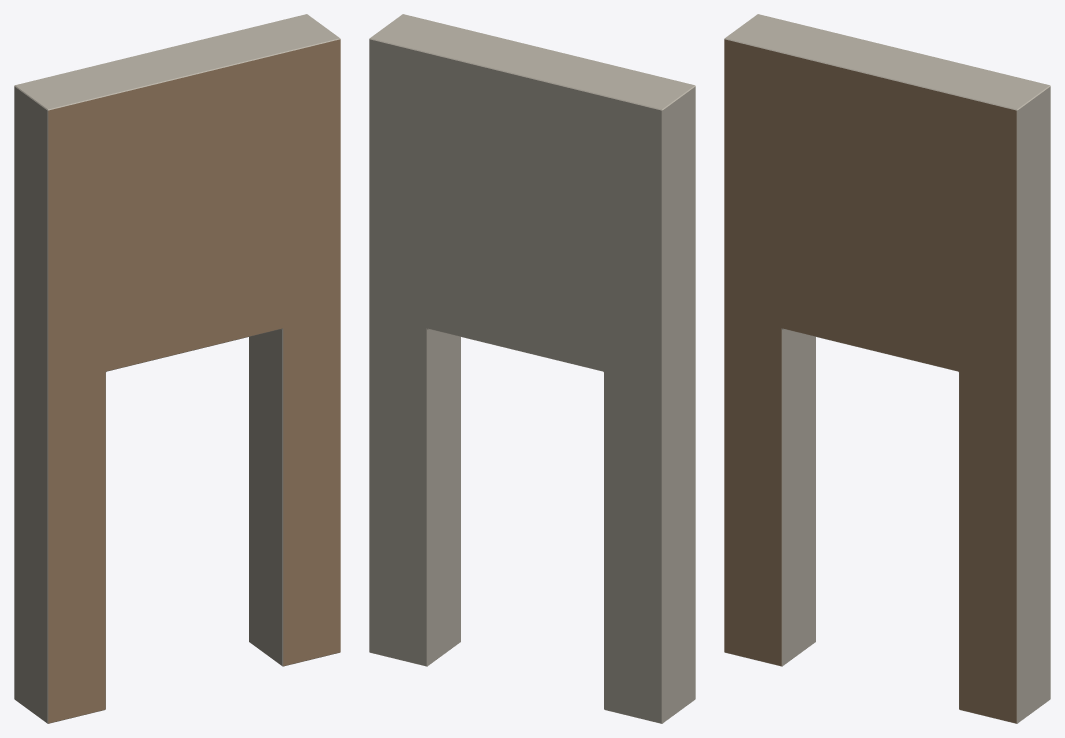
The model's file is arch_wall_ext_door_service_w200_h400.glb.
3 renders of one model, left to right at view 1: azimuth 30°, elevation 25°; view 2: azimuth 150°, elevation 25°; view 3: azimuth 330°, elevation 25°, orthographic.
Parts seen in each view (by area): view 1: Wall; view 2: Wall; view 3: Wall.
Part boxes in pixels (x1,y1,x2,y2): Wall: (14, 14, 340, 723); Wall: (369, 14, 695, 723); Wall: (724, 14, 1050, 723).
Size of what is drawn, in the model's own units: 2 by 4 by 0.4.
